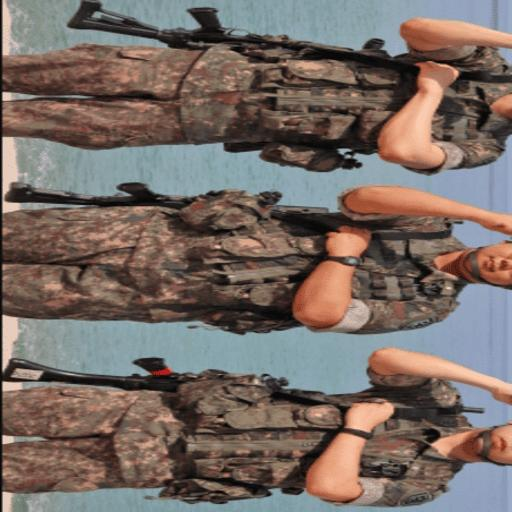korea army: (3, 355, 500, 508), (4, 188, 495, 334), (6, 33, 511, 168)
